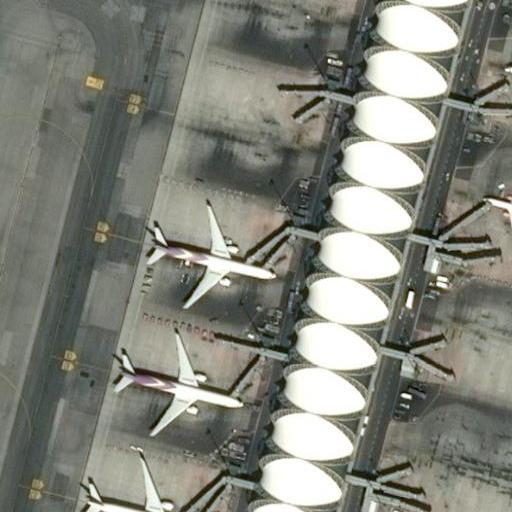Aircraft: (130, 195, 276, 313), (101, 319, 242, 434), (63, 452, 210, 512), (492, 28, 512, 135), (483, 179, 512, 239)
